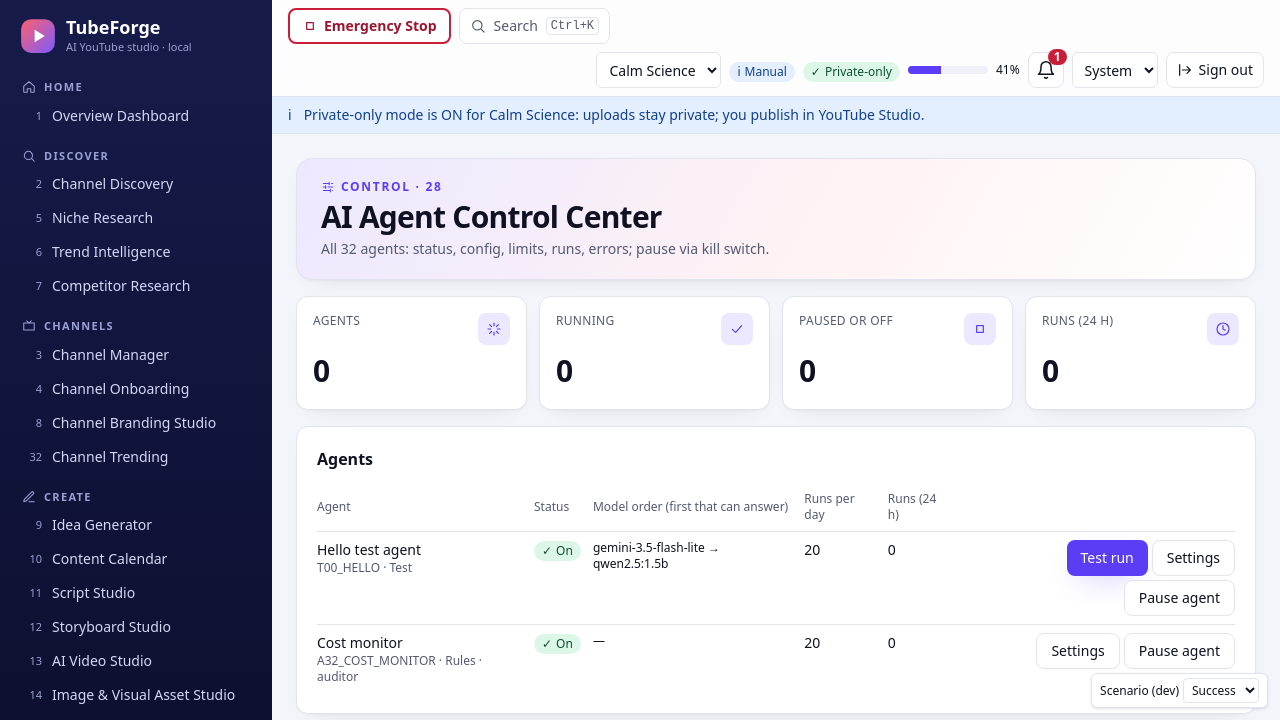
Test: Agent Control Center (real API) › lists agents, runs the hello agent and shows the run
The width and height of the screenshot is (1280, 720).
Expected: the row with test id "agent-T00_HELLO" shows "Hello test agent", [317,540,421,559]
Expected: the row with test id "agent-T00_HELLO" shows "gemini-3.5-flash-lite → qwen2.5:1.5b", [593,539,720,572]
Click the button "Test run" at (1107, 558), box [1066,540,1148,576]
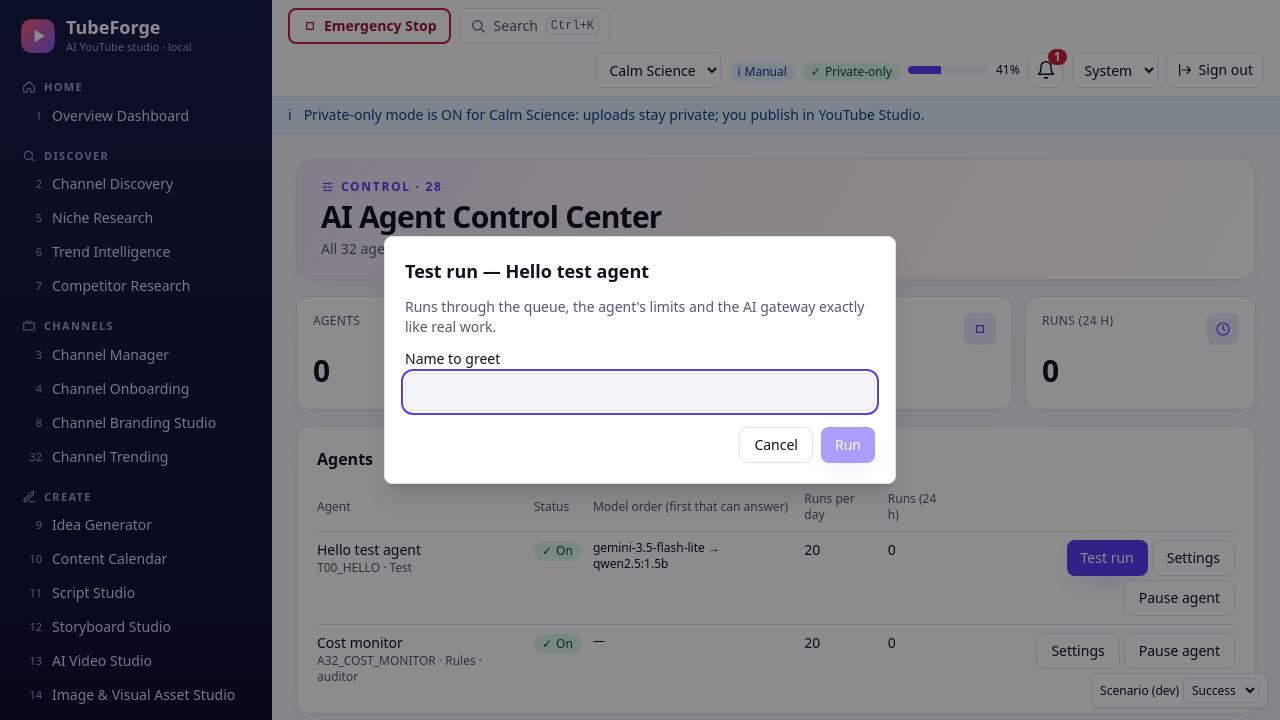
Type "Ayesha" into the field labelled "Name to greet" at (640, 392), box [405,373,875,411]
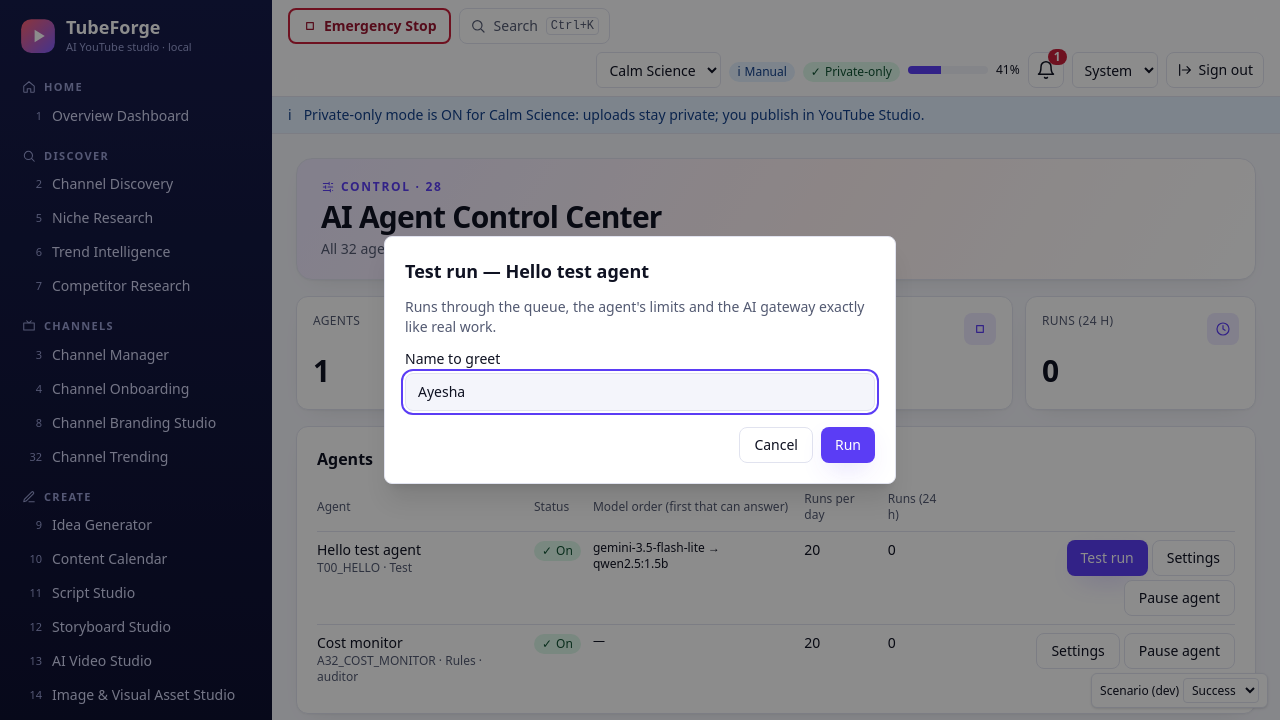
Click the button "Run" at (848, 445), box [821,427,875,463]
(page scrolled)
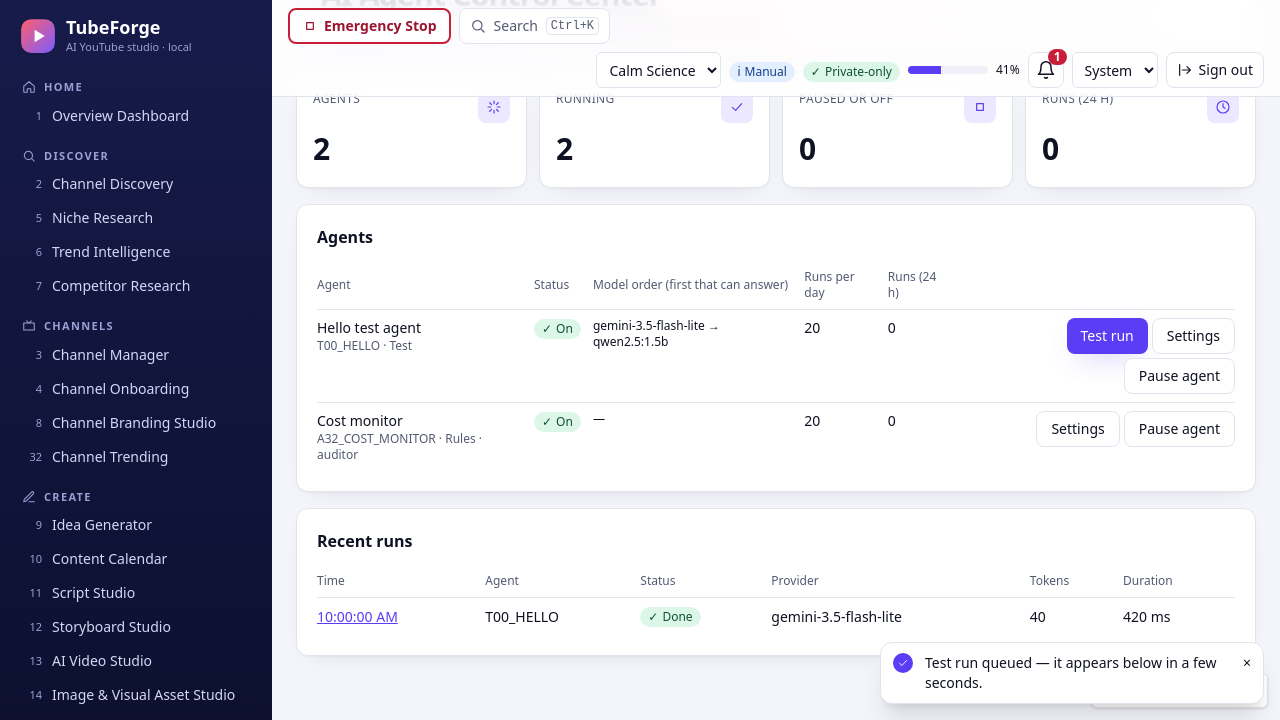
Expected: the table with test id "runs-table" shows "Done", [662,608,693,625]
Click the button "10:00:00 AM" at (357, 616), box [317,606,398,626]
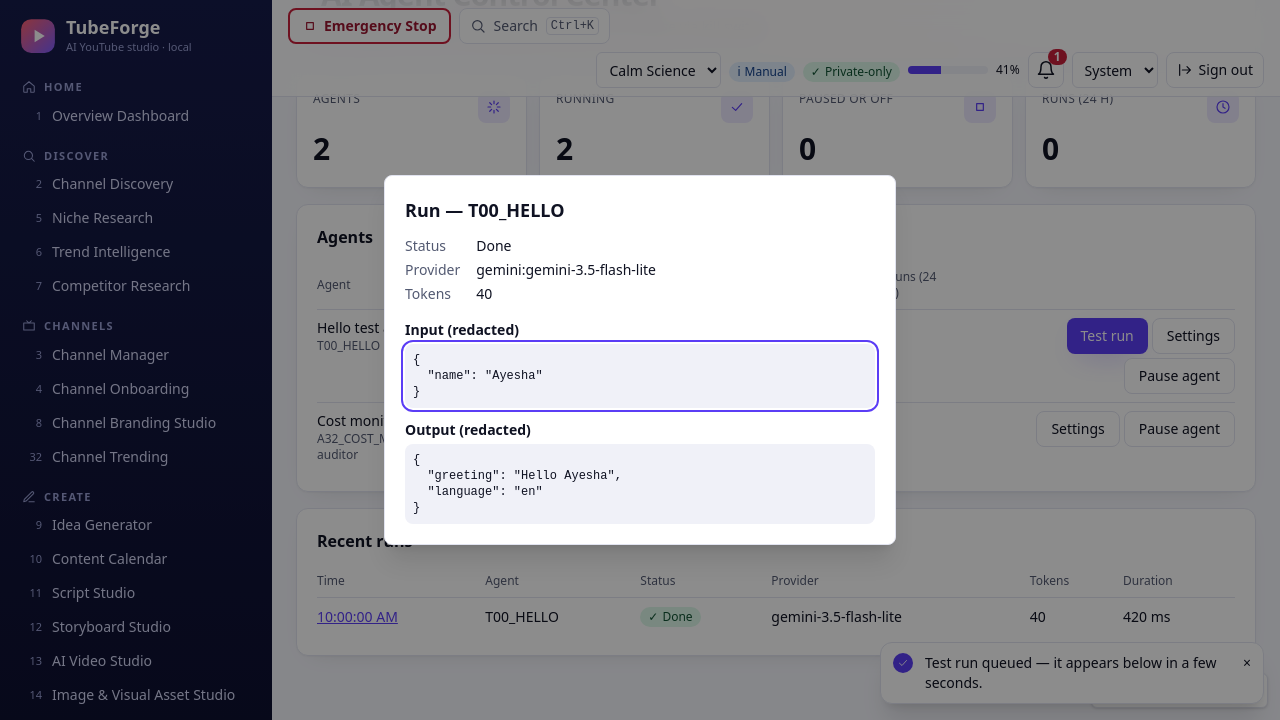
Expected: the dialog with test id "agent-run-details" shows "Hello Ayesha", [413,453,622,515]
